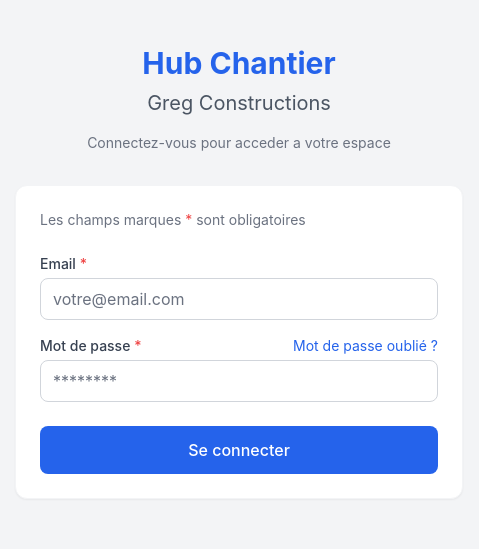
Test: LoginPage › should show default error when no detail
Type "test@example.com" into the field labelled "Email *" at (239, 299), box [40, 278, 438, 320]
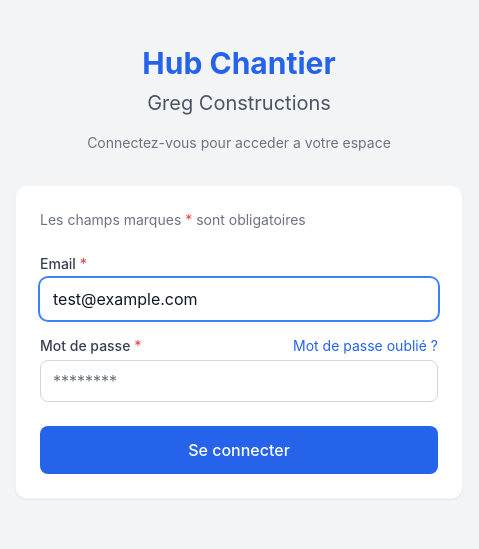
Type "password" into the password field labelled "Mot de passe *" at (239, 381), box [40, 360, 438, 402]
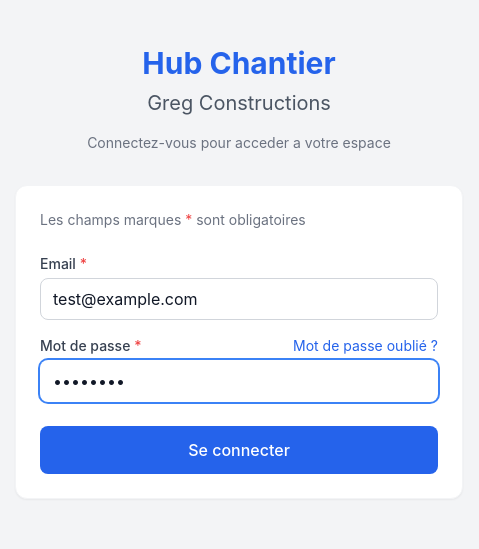
Click the button "Se connecter" at (239, 450), box [40, 426, 438, 474]
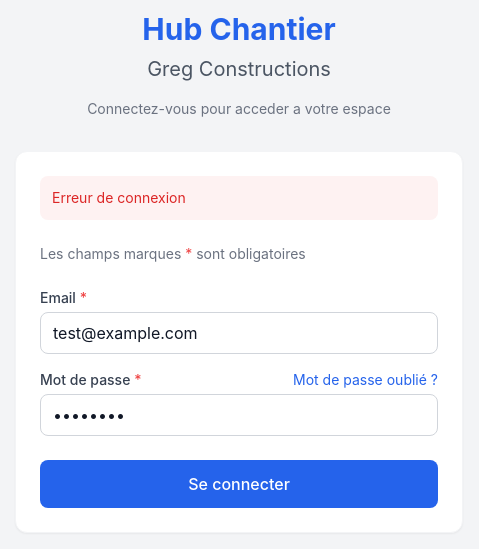
Expected: the text "Erreur de connexion" is shown, [40, 176, 438, 220]
